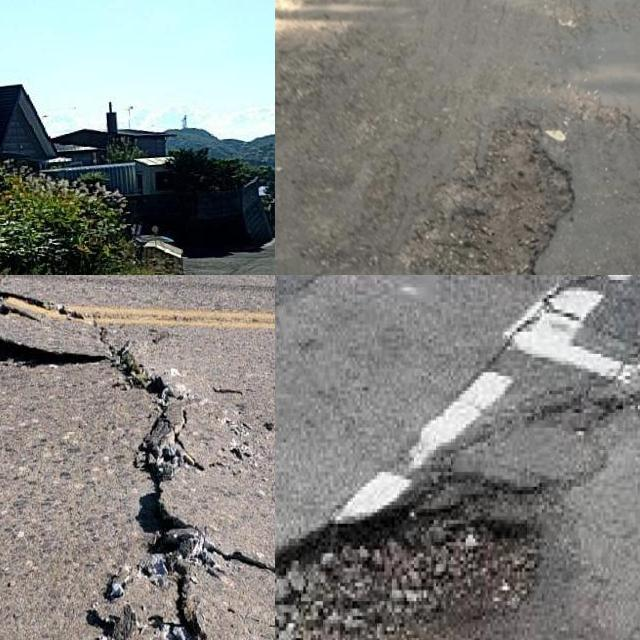Lubang: (275, 466, 558, 640), (402, 117, 579, 275)
Memanjang: (0, 275, 225, 640)
